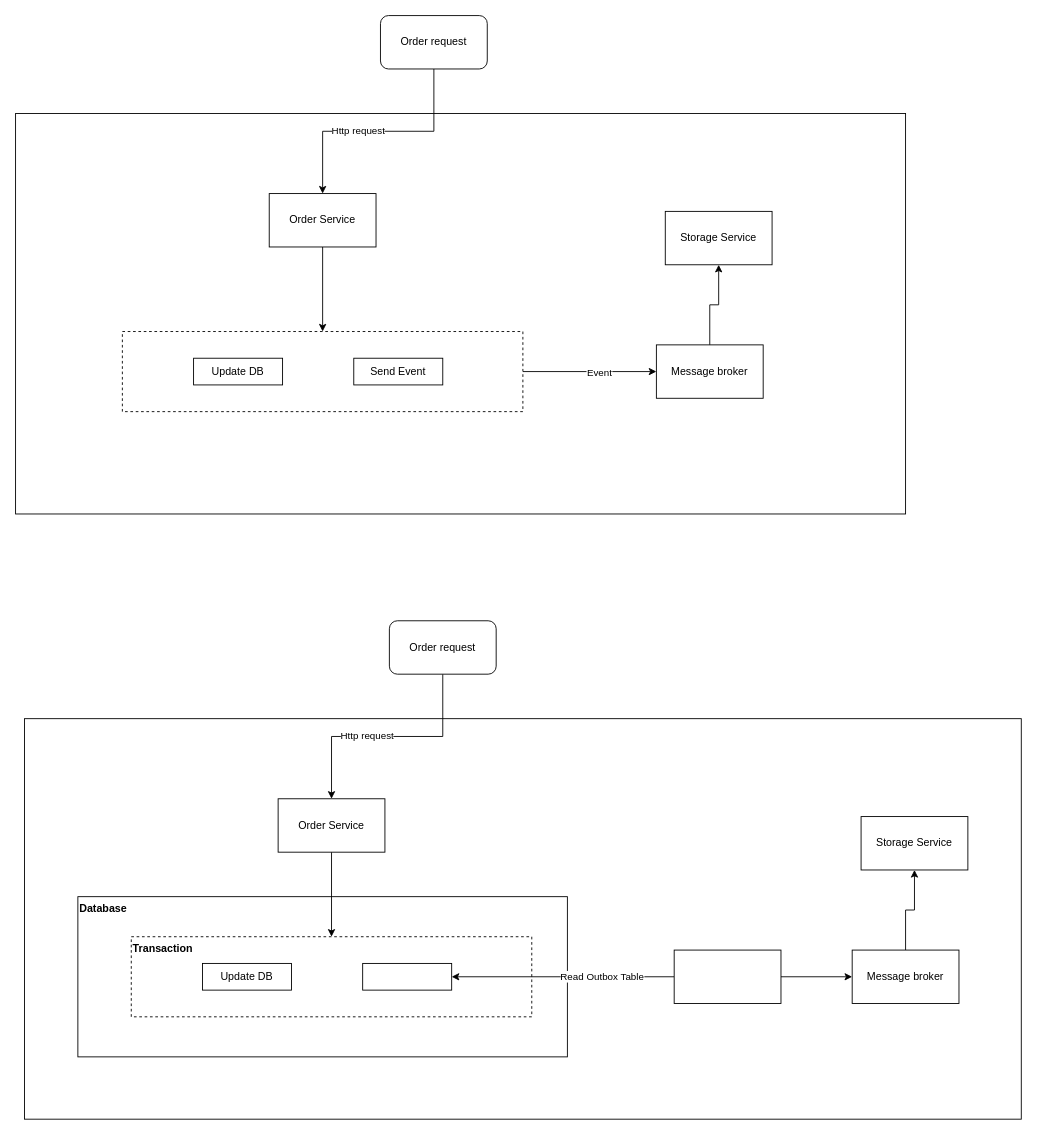
Image size: 1037x1135. Some labels were removed from this diagram. Each missing label, with the centre of its shape:
Insert Event To Outbox Table: (x=407, y=976)
Message Relay: (x=727, y=976)
